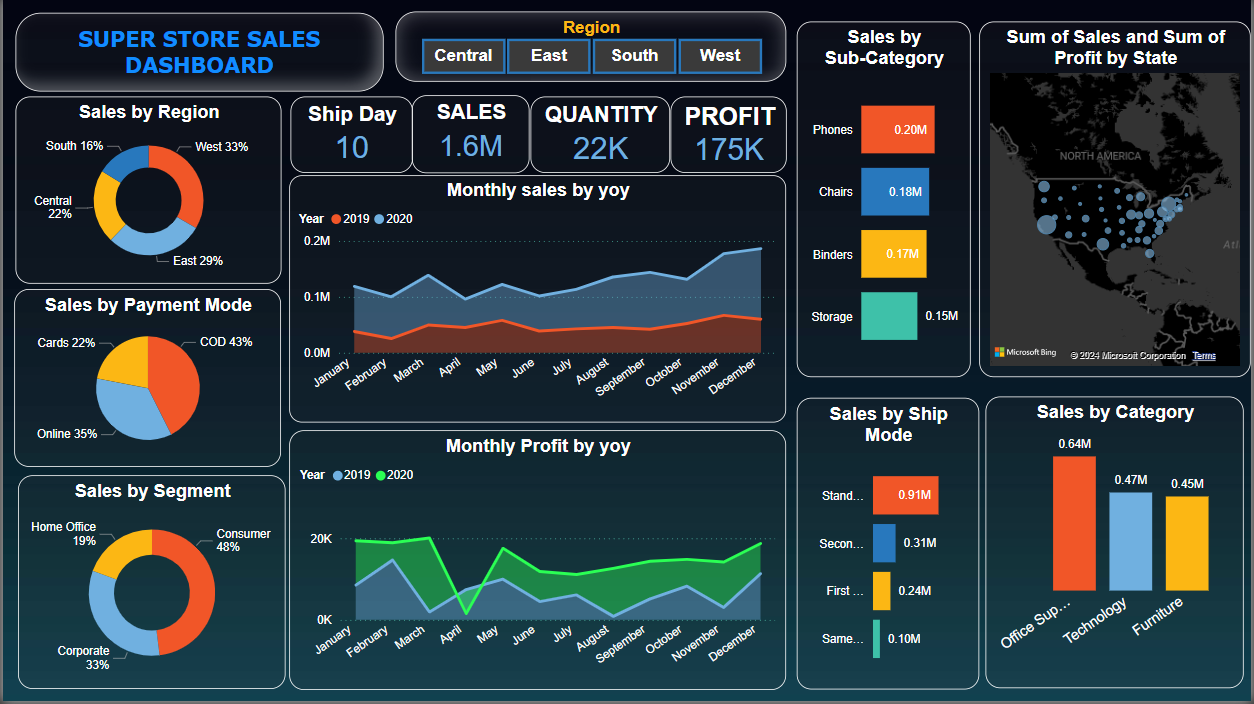

The dashboard page shown, as its layout file describes it:
{"tool":"powerbi","page":{"name":"Page 1","canvas":[1280,720],"ordinal":0},"visuals":[{"type":"columnChart","title":" Sales by Category","fields":{"Category":["SuperStore_Sales_Dataset.Category"],"Y":["Sum(SuperStore_Sales_Dataset.Sales)"]},"box":[1008.1,408.1,265.1,298.8],"z":0},{"type":"clusteredBarChart","title":" Sales by  Sub-Category","fields":{"Y":["Sum(SuperStore_Sales_Dataset.Sales)"],"Category":["SuperStore_Sales_Dataset.Sub-Category"]},"box":[813.7,23.3,178.4,365],"z":1000},{"type":"clusteredBarChart","title":" Sales by Ship Mode","fields":{"Y":["Sum(SuperStore_Sales_Dataset.Sales)"],"Category":["SuperStore_Sales_Dataset.Ship Mode"]},"box":[814,409.3,187.2,298.8],"z":2000},{"type":"stackedAreaChart","title":" Monthly Profit by yoy","fields":{"Category":["SuperStore_Sales_Dataset.Order Date.Variation.Date Hierarchy.Month","SuperStore_Sales_Dataset.Order Date.Variation.Date Hierarchy.Day"],"Series":["SuperStore_Sales_Dataset.Order Date.Variation.Date Hierarchy.Year"],"Y":["Sum(SuperStore_Sales_Dataset.Profit)"]},"box":[294.2,441.9,509.3,266.3],"z":3000},{"type":"stackedAreaChart","title":" Monthly sales by yoy","fields":{"Y":["Sum(SuperStore_Sales_Dataset.Sales)"],"Category":["SuperStore_Sales_Dataset.Order Date.Variation.Date Hierarchy.Month","SuperStore_Sales_Dataset.Order Date.Variation.Date Hierarchy.Day"],"Series":["SuperStore_Sales_Dataset.Order Date.Variation.Date Hierarchy.Year"]},"box":[294.2,180.2,509.3,253.5],"z":4000},{"type":"map","fields":{"Category":["SuperStore_Sales_Dataset.State"],"Size":["Sum(SuperStore_Sales_Dataset.Sales)"]},"box":[1001.7,23.3,278.6,365],"z":5000},{"type":"donutChart","title":"Sales by Segment","fields":{"Category":["SuperStore_Sales_Dataset.Segment"],"Y":["Sum(SuperStore_Sales_Dataset.Sales)"]},"box":[15.1,488.5,274.4,219.6],"z":6000},{"type":"pieChart","title":" Sales by Payment Mode","fields":{"Category":["SuperStore_Sales_Dataset.Payment Mode"],"Y":["Sum(SuperStore_Sales_Dataset.Sales)"]},"box":[12.1,298,273.9,182.2],"z":7000},{"type":"slicer","title":"Region","fields":{"Values":["SuperStore_Sales_Dataset.Region"]},"box":[403,13.3,400.5,72.4],"z":8000},{"type":"textbox","box":[12.3,13.7,377.4,81],"z":9000},{"type":"card","title":"SALES","fields":{"Values":["Sum(SuperStore_Sales_Dataset.Sales)"]},"box":[419.8,98.9,120.6,79.6],"z":10000},{"type":"card","title":"QUANTITY","fields":{"Values":["Sum(SuperStore_Sales_Dataset.Quantity)"]},"box":[540.5,100.1,143.6,78.4],"z":11000},{"type":"card","title":"PROFIT","fields":{"Values":["Sum(SuperStore_Sales_Dataset.Profit)"]},"box":[684.1,100.1,119.4,78.4],"z":12000},{"type":"card","title":"Ship Day","fields":{"Values":["Avg(SuperStore_Sales_Dataset.AvgDelivary)"]},"box":[294.4,100.1,125.5,78.4],"z":13000},{"type":"donutChart","title":" Sales by Region","fields":{"Category":["SuperStore_Sales_Dataset.Region"],"Y":["Sum(SuperStore_Sales_Dataset.Sales)"]},"box":[13.3,100.1,272.7,191.8],"z":14000}]}

Visuals, with their boxes in screenshot pixels (x1, y1, x2, y2), scaled from the page's 1280x720 canvas onto the 1254x704 screenshot:
" Sales by Category" columnChart: (988,399,1247,691)
" Sales by  Sub-Category" clusteredBarChart: (797,23,972,380)
" Sales by Ship Mode" clusteredBarChart: (797,400,981,692)
" Monthly Profit by yoy" stackedAreaChart: (288,432,787,692)
" Monthly sales by yoy" stackedAreaChart: (288,176,787,424)
map - SuperStore_Sales_Dataset.State x Sum(SuperStore_Sales_Dataset.Sales): (981,23,1253,380)
"Sales by Segment" donutChart: (15,478,284,692)
" Sales by Payment Mode" pieChart: (12,291,280,470)
"Region" slicer: (395,13,787,84)
textbox: (12,13,382,93)
"SALES" card: (411,97,529,175)
"QUANTITY" card: (530,98,670,175)
"PROFIT" card: (670,98,787,175)
"Ship Day" card: (288,98,411,175)
" Sales by Region" donutChart: (13,98,280,285)
